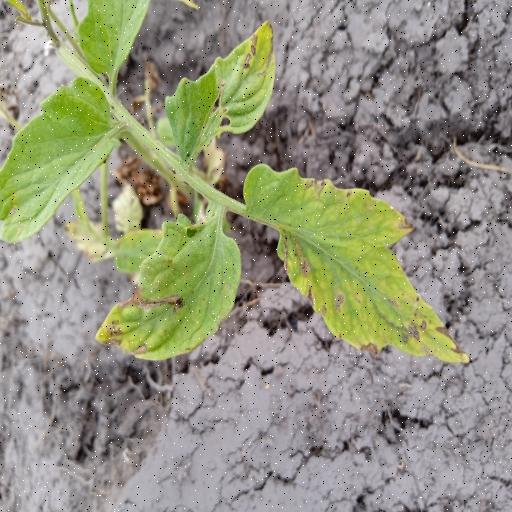Tomato_Brown_Spots: (244, 158, 473, 369), (96, 210, 244, 368), (0, 75, 122, 242), (162, 20, 278, 163)
